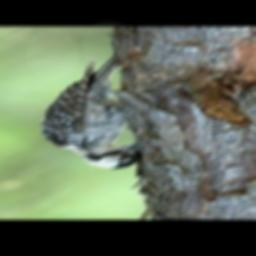Woodpecker: (37, 55, 142, 169)
